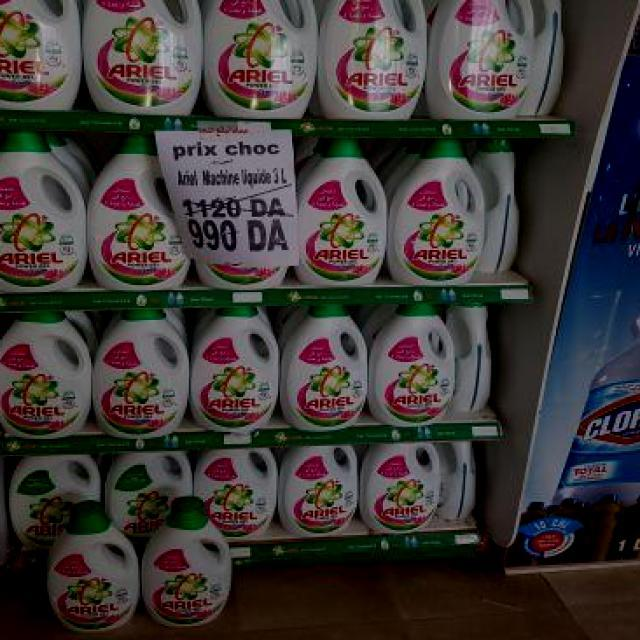Detergent: (84, 130, 182, 290), (288, 132, 390, 284), (394, 133, 486, 284), (39, 502, 148, 628), (86, 0, 206, 114), (316, 0, 431, 117), (0, 130, 84, 290), (424, 0, 538, 117), (206, 0, 316, 119), (0, 300, 93, 440), (137, 498, 235, 624), (92, 310, 188, 436), (187, 306, 280, 432), (280, 302, 370, 428), (371, 305, 456, 431), (272, 439, 358, 535), (0, 0, 77, 107), (363, 434, 438, 532), (195, 448, 274, 538)
